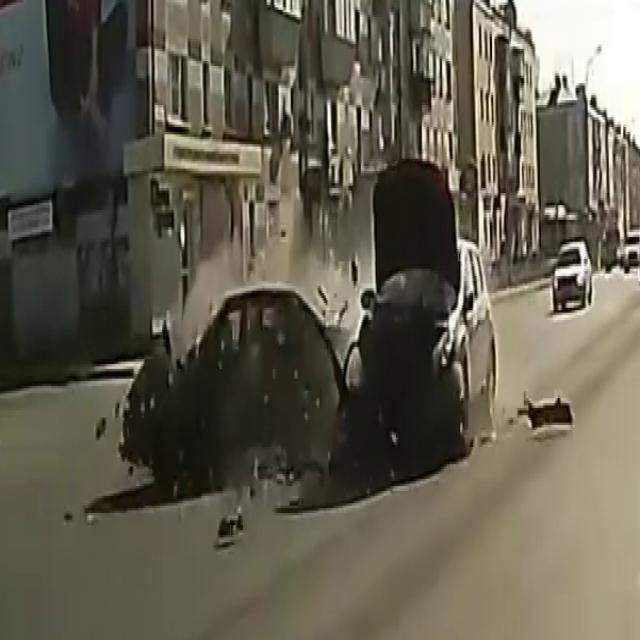accident: (135, 222, 492, 502)
